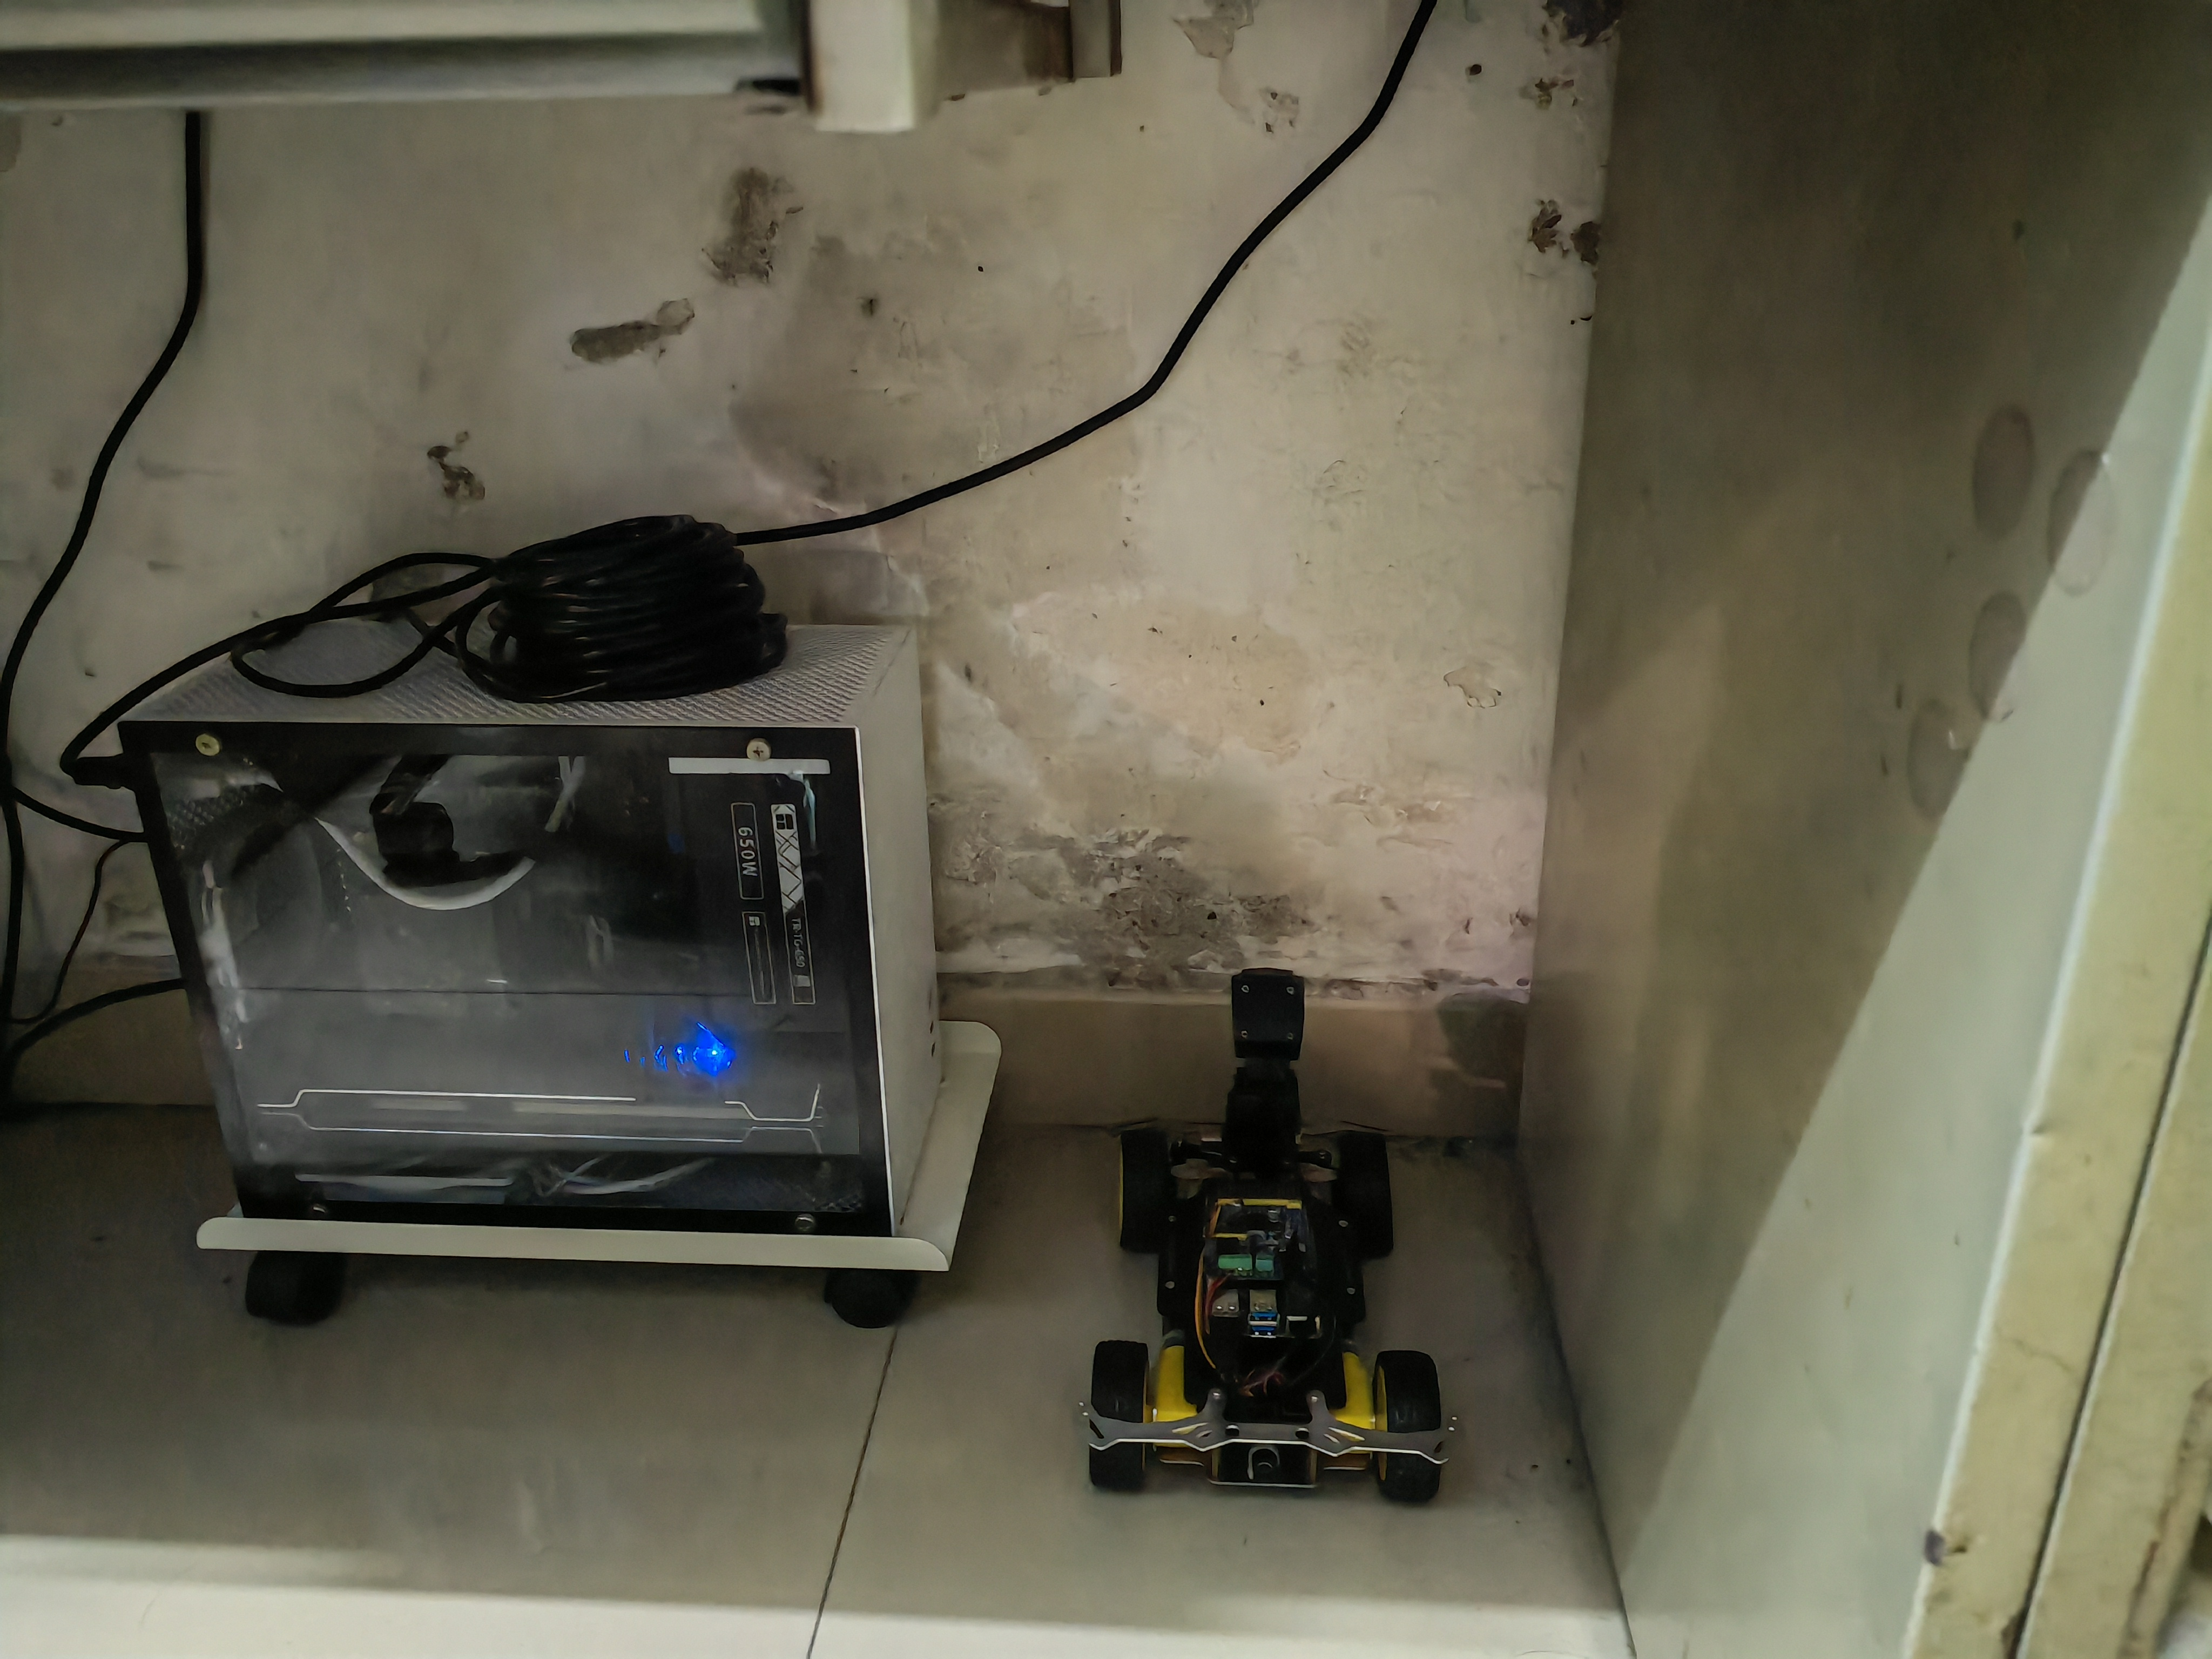car: (1059, 953, 1475, 1535)
